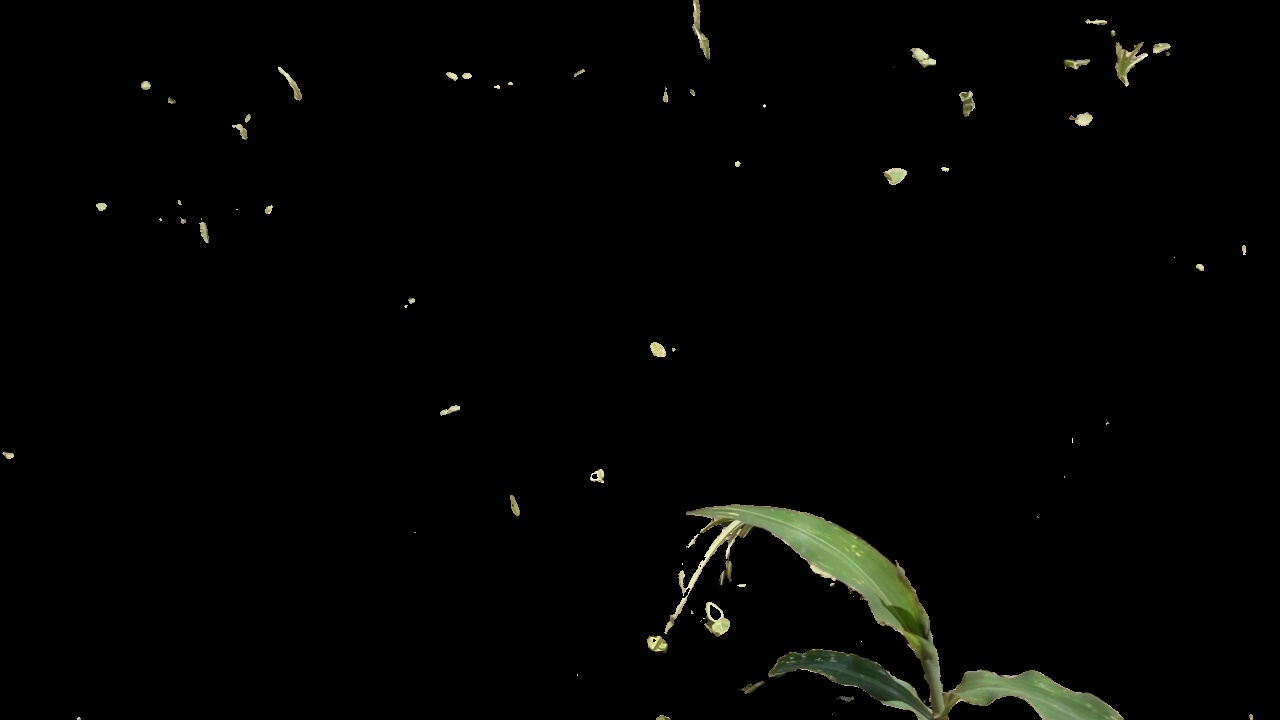crop: (668, 477, 1126, 720)
weed: (1072, 11, 1182, 99), (696, 599, 735, 647)
